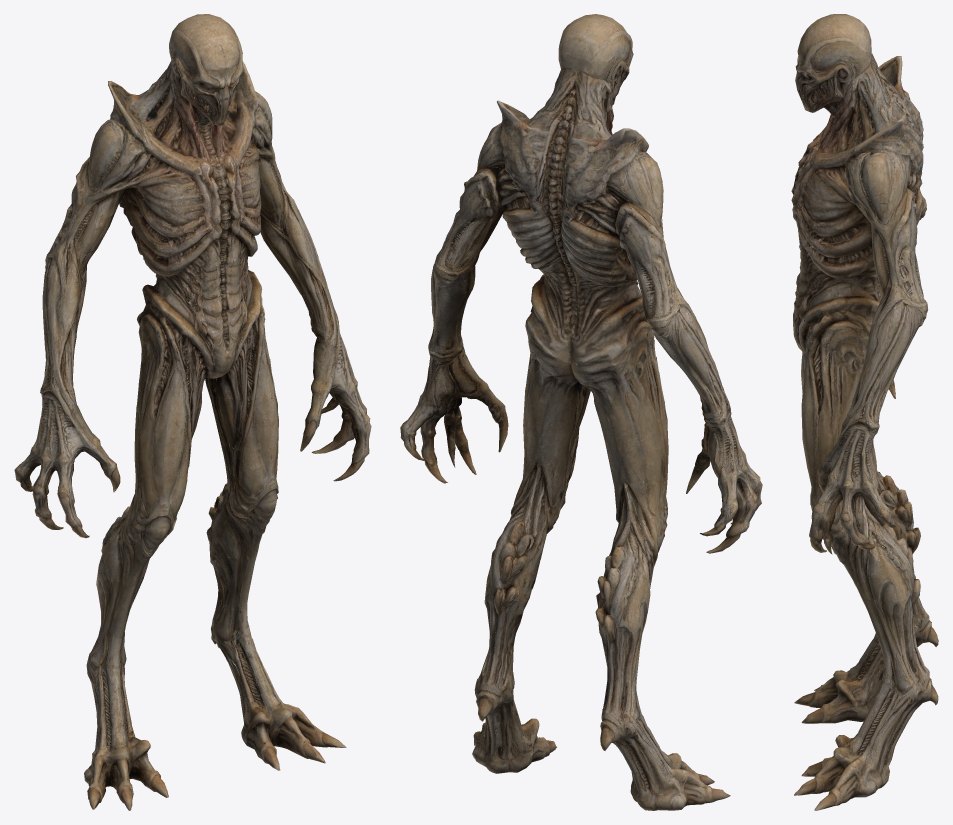
Rendered from ghost.glb.
3 views of the same model, side by side, from view 1: azimuth 30°, elevation 25°; view 2: azimuth 150°, elevation 25°; view 3: azimuth 270°, elevation 25° (orthographic). The views are drawn at different scales.
Parts seen in each view (by area): view 1: horror-monster; view 2: horror-monster; view 3: horror-monster.
Part boxes in pixels (x1,y1,x2,y2): horror-monster: (14, 14, 371, 810); horror-monster: (400, 14, 762, 810); horror-monster: (791, 14, 938, 810).
Size of the model in its own units: 1.02 by 2.2 by 0.4011.
1 material, 1 textured.
